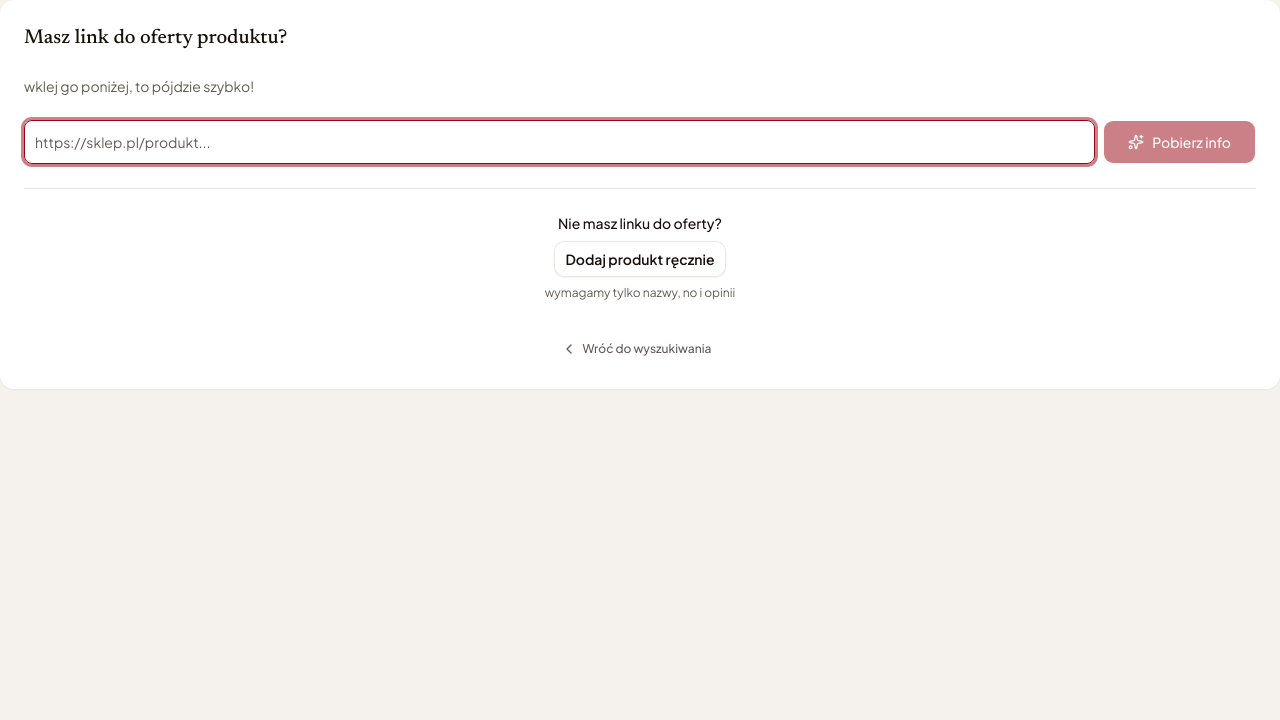
Scenario: CombinedProductReviewForm › Scraper Integration › handles scraping failure: retains productUrl and displays failure banner
Type "https://unknown-shop.com/item" into the field named "Link do oferty produktu".
click(560, 142); type("https://unknown-shop.com/item")  # box [24,120,1095,164]
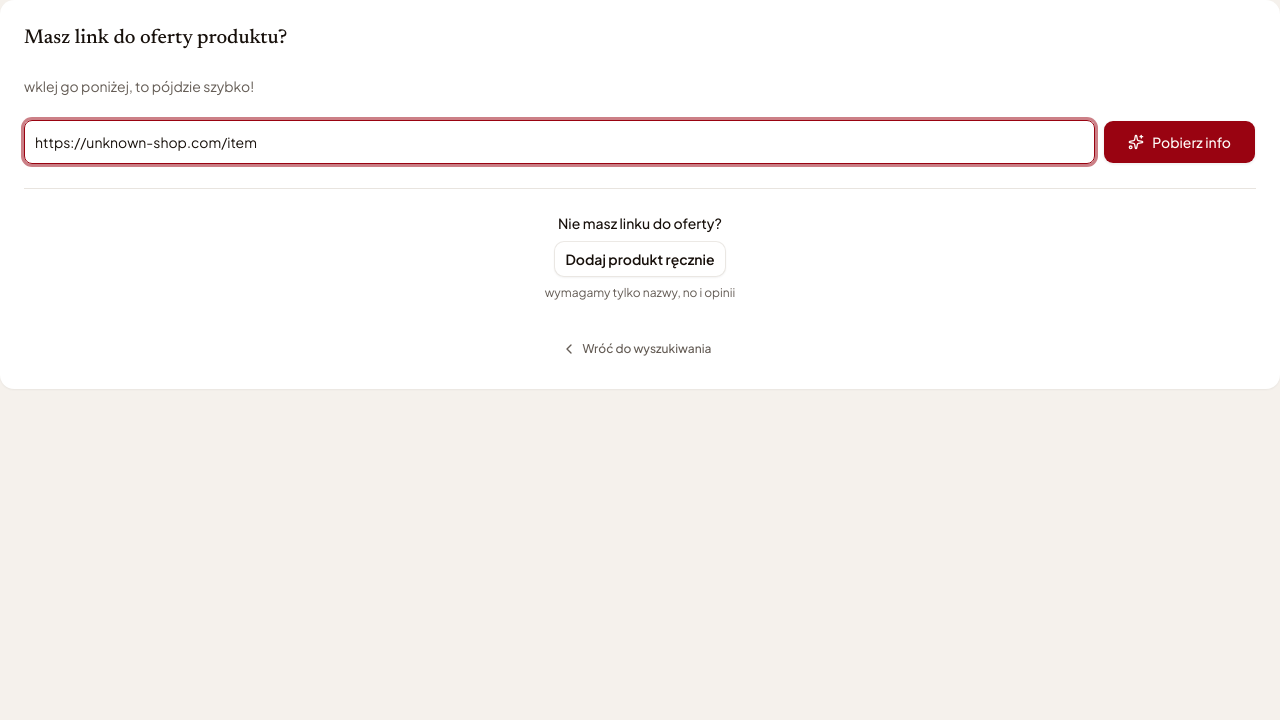
Click the button "Pobierz info".
click(1180, 142)  # box [1103,120,1256,164]
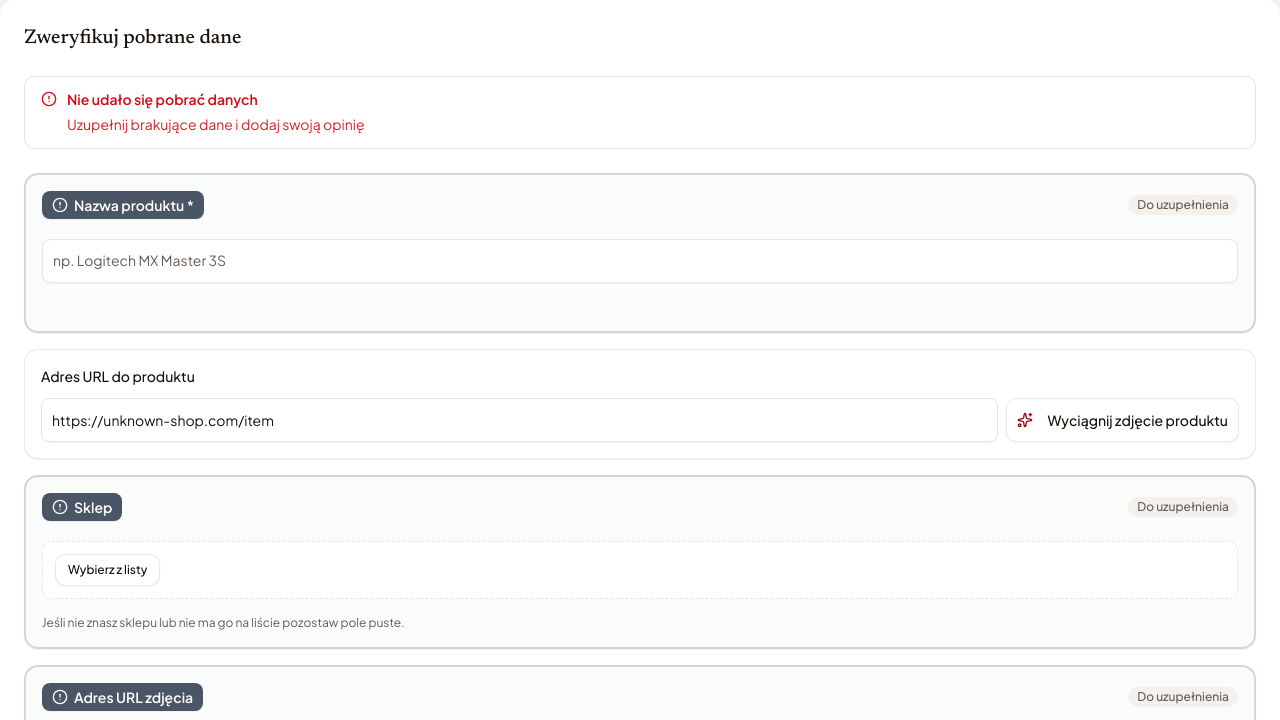
Check: the text "Nie udało się pobrać danych" is shown, box [67,90,258,108]
Check: the field labelled "Adres URL do produktu" holds "https://unknown-shop.com/item", box [41,398,998,442]
Check: the text box labelled "Nazwa produktu *" is empty, box [42,239,1238,283]
